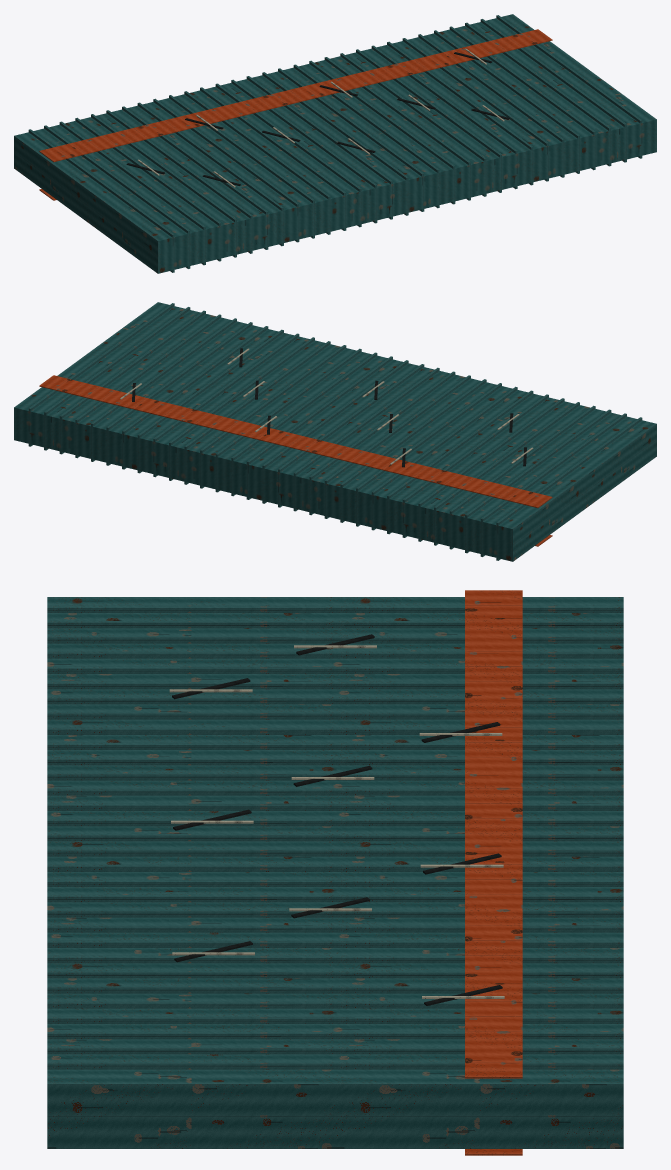
The model's file is corrugated_wall-light.obj.
The picture shows the model from 3 angles, top to bottom: view 1: azimuth 30°, elevation 25°; view 2: azimuth 150°, elevation 25°; view 3: azimuth 270°, elevation 25°; orthographic projection. The views are drawn at different scales.
Visible parts, largest first — view 1: corrugated_wall.Light; view 2: corrugated_wall.Light; view 3: corrugated_wall.Light.
Boxes of the visible parts, bbox=[...] form: corrugated_wall.Light: bbox=[14, 14, 656, 273]; corrugated_wall.Light: bbox=[14, 302, 656, 561]; corrugated_wall.Light: bbox=[47, 590, 623, 1155].
Bounding box in the file's own units: 16 × 1.37 × 8.
Materials: 4 (4 with a texture image).
